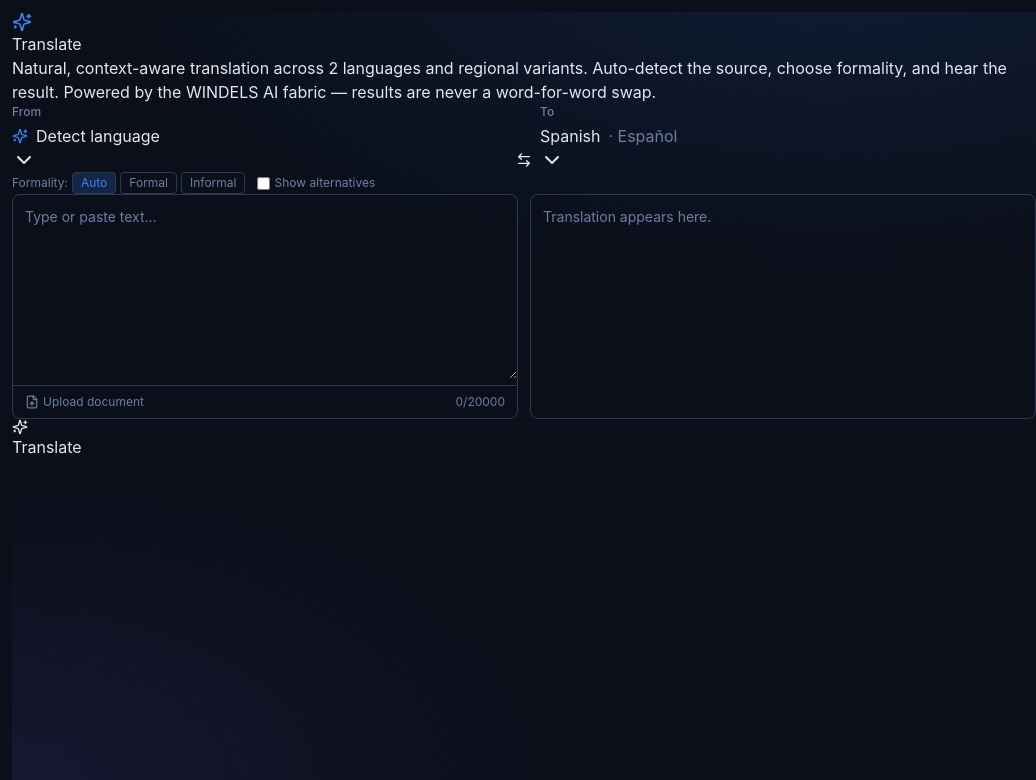
Scenario: TranslateView › translates typed text and renders the result
Step 1. Type "Hello" into the text box with placeholder "Type or paste text…" → point(265, 287), box left=13, top=195, right=517, bottom=379
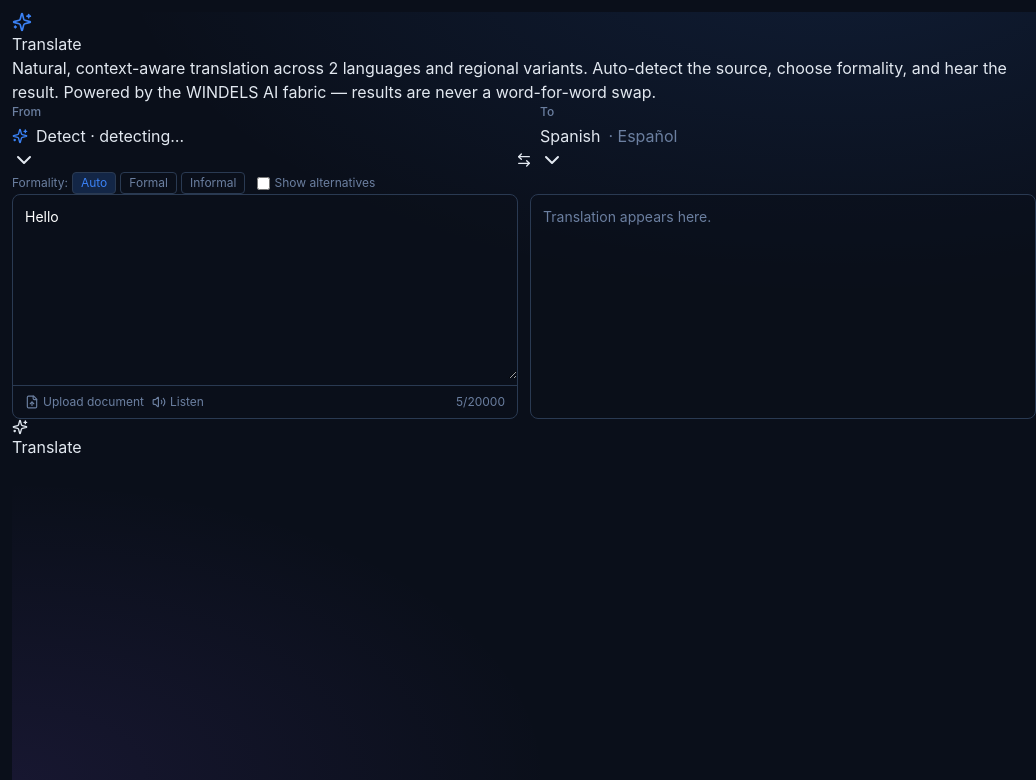
Step 2. Click the button "Translate" → point(47, 439), box left=12, top=419, right=82, bottom=459
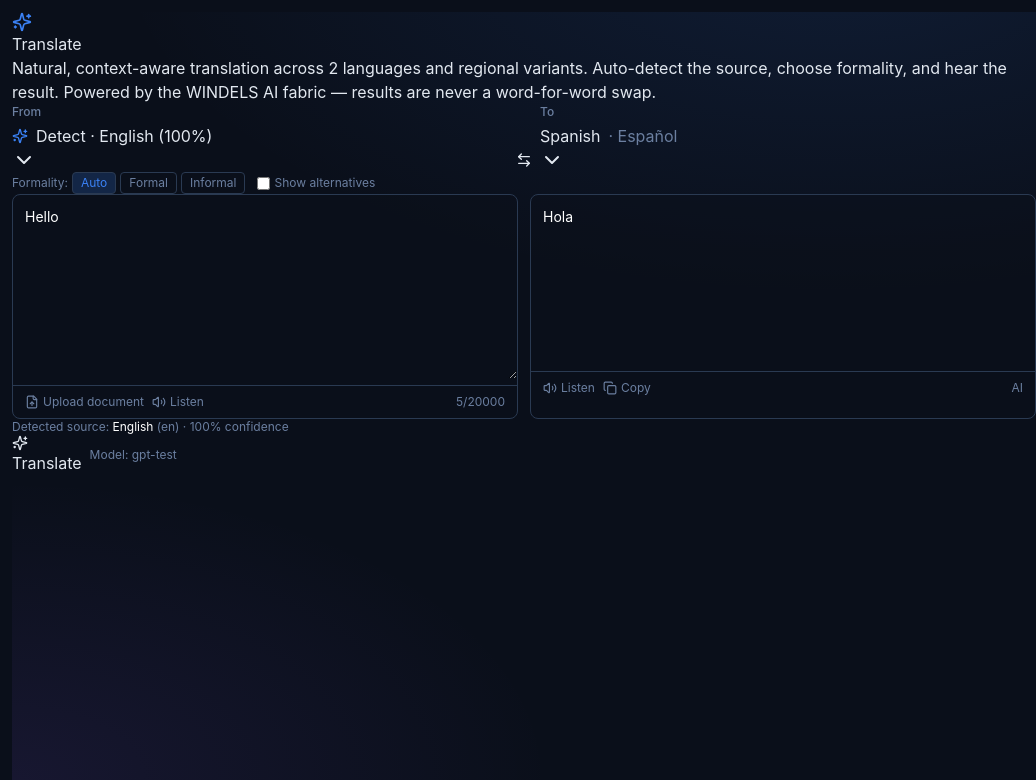
Result: the text "Hola" is shown at left=543, top=208, right=573, bottom=225
Result: the text "Model: gpt-test" is shown at left=90, top=447, right=177, bottom=463
Result: the text "AI" is shown at left=1012, top=380, right=1023, bottom=396
